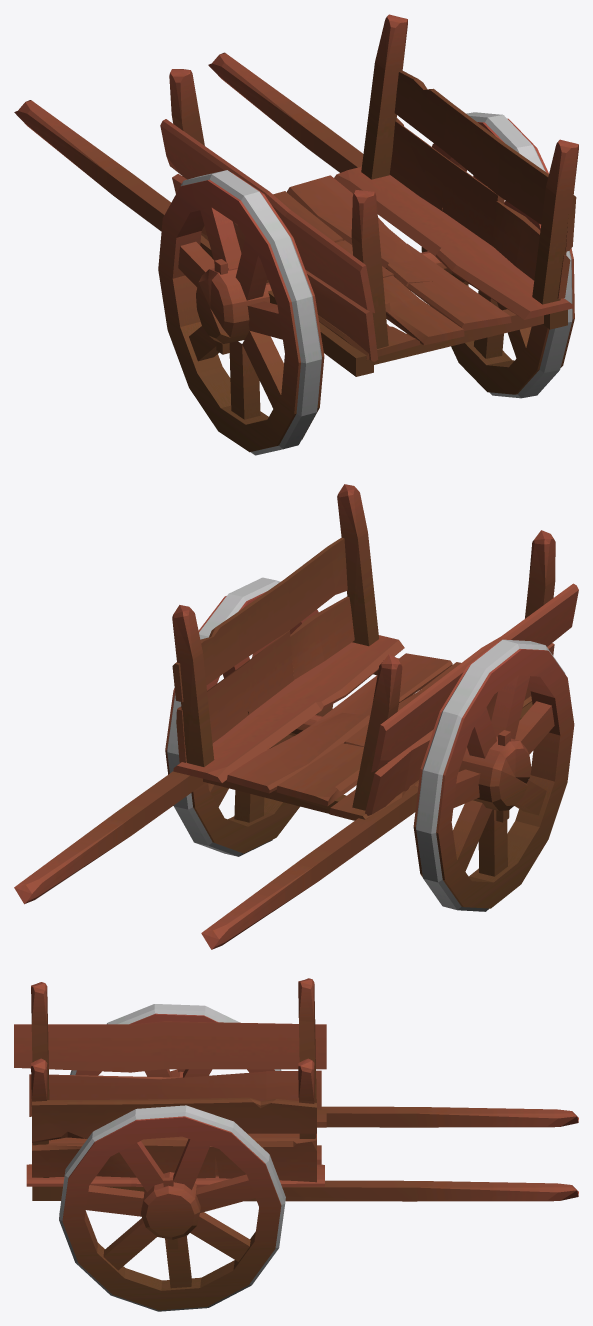
3 views of the same model, one above another, from view 1: azimuth 30°, elevation 25°; view 2: azimuth 150°, elevation 25°; view 3: azimuth 270°, elevation 25° (orthographic). The views are drawn at different scales.
Parts seen in each view (by area): view 1: Cart; view 2: Cart; view 3: Cart.
Part boxes in pixels (<box>): Cart: <box>14,14,578,455</box>; Cart: <box>14,484,578,949</box>; Cart: <box>14,978,578,1311</box>.
Size of the model in its own units: 2.4 by 2.3 by 4.84.
Materials: 1 (1 with a texture image).
